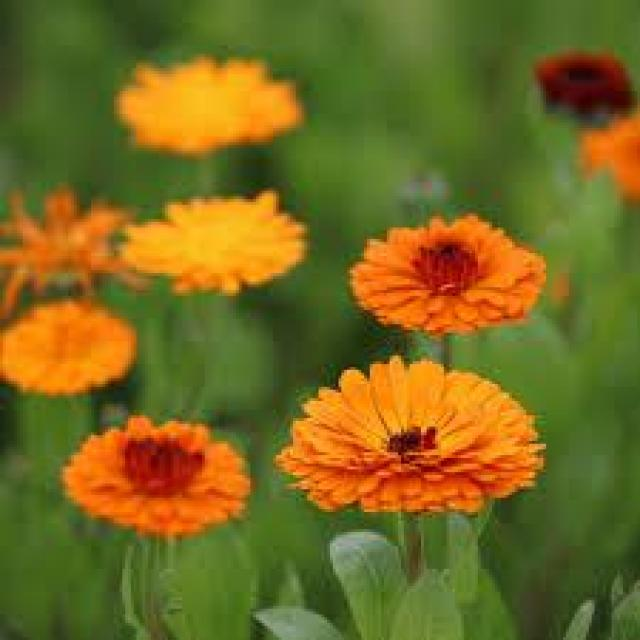organic waste: (264, 355, 578, 515), (108, 43, 316, 154), (78, 414, 255, 536), (358, 219, 560, 324), (115, 192, 317, 292), (11, 290, 140, 387)
